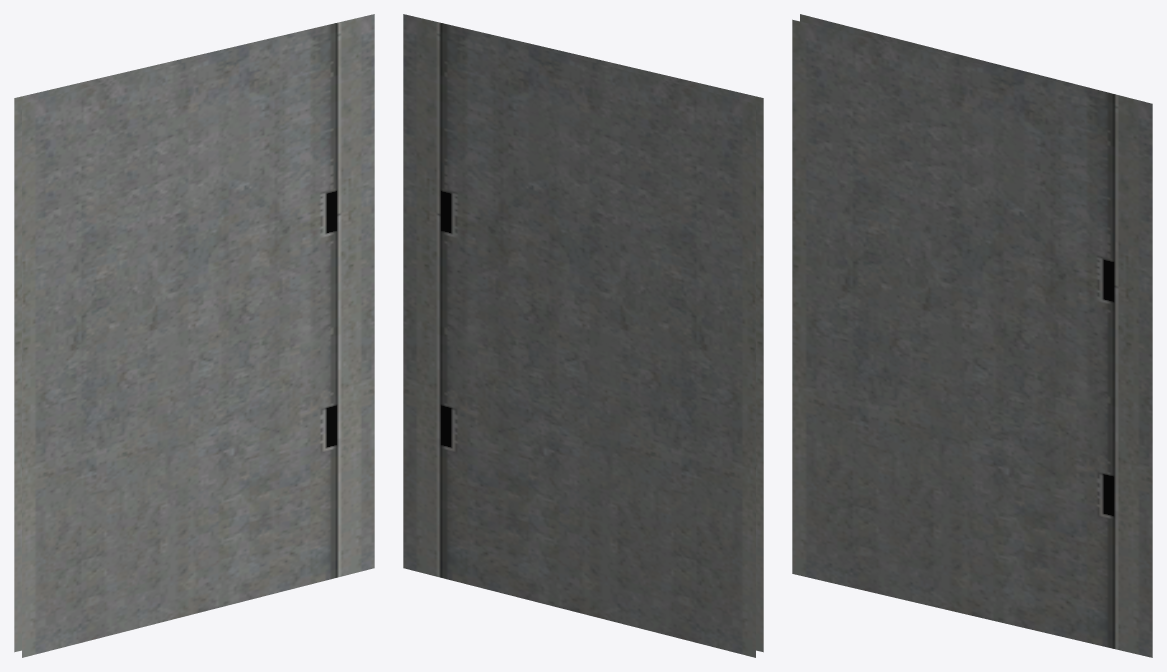
The model's file is door_corl_metal_s02_l1.fbx.
The picture shows the model from 3 angles, left to right: view 1: azimuth 30°, elevation 25°; view 2: azimuth 150°, elevation 25°; view 3: azimuth 330°, elevation 25°; orthographic projection.
Parts seen in each view (by area): view 1: mesh_node; view 2: mesh_node; view 3: mesh_node.
Boxes of the visible parts, bbox=[...] form: mesh_node: bbox=[14, 14, 374, 657]; mesh_node: bbox=[403, 14, 763, 657]; mesh_node: bbox=[792, 14, 1152, 657].
Size of the model in its own units: 2.02 by 3 by 0.0761.
1 material, 1 textured.
